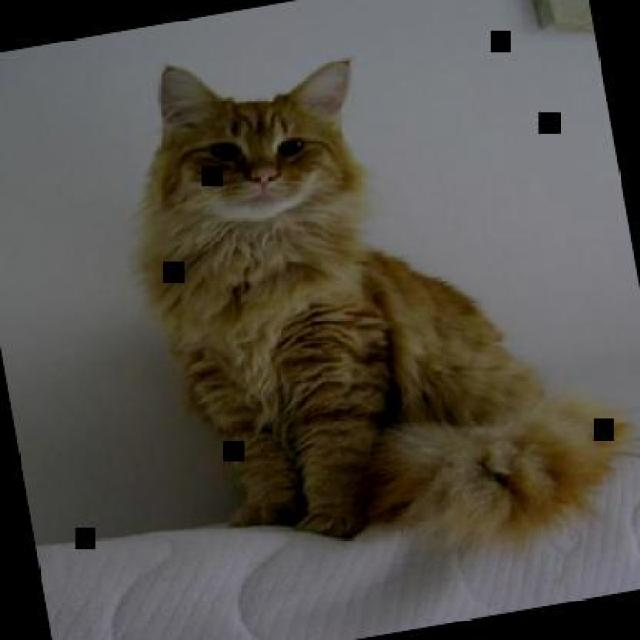cat: (110, 0, 636, 602)
